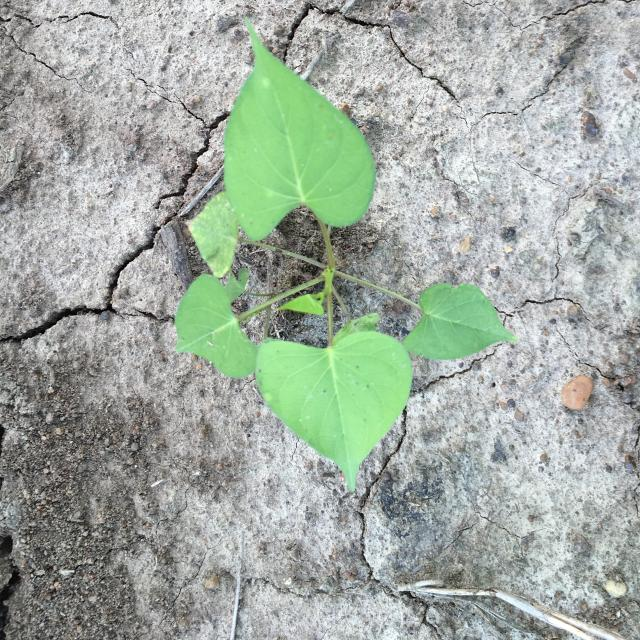MorningGlory: (174, 16, 520, 493)
